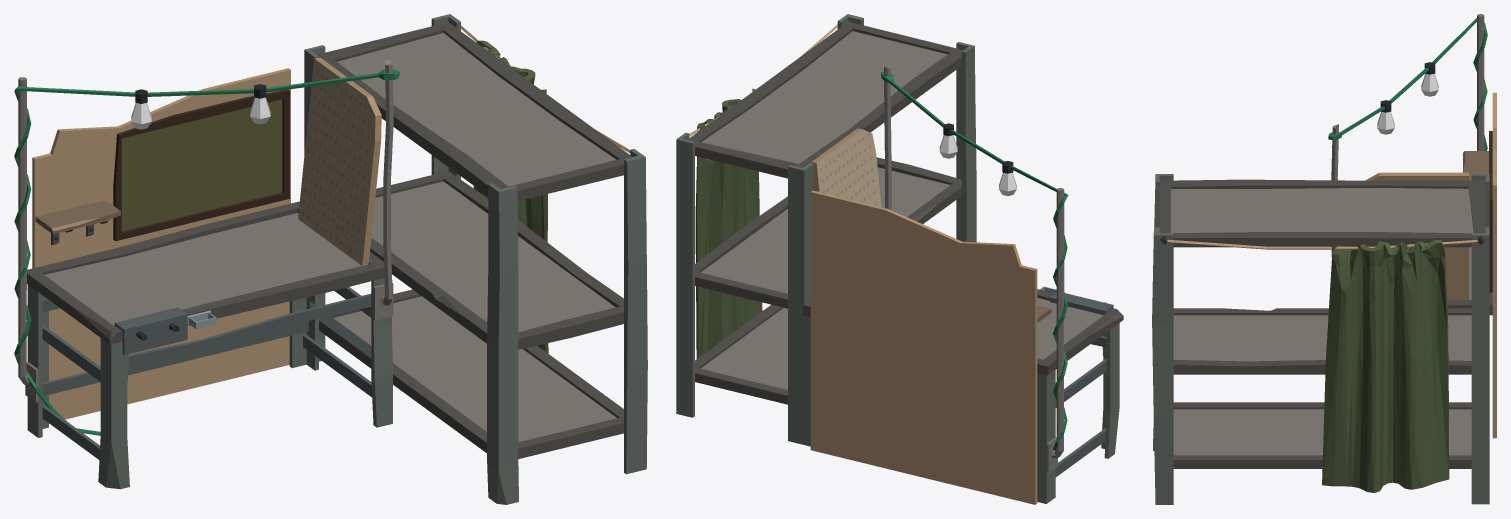
The model's file is SM_Workbench.gltf.
3 renders of one model, left to right at view 1: azimuth 30°, elevation 25°; view 2: azimuth 150°, elevation 25°; view 3: azimuth 270°, elevation 25°, orthographic. The views are drawn at different scales.
Parts seen in each view (by area): view 1: SM_Workbench, SM_Workbench_Light, SM_Workbench_Holder, SM_Workbench_Curtain; view 2: SM_Workbench, SM_Workbench_Curtain, SM_Workbench_Light, SM_Workbench_Holder; view 3: SM_Workbench, SM_Workbench_Curtain, SM_Workbench_Light.
Part boxes in pixels (x1,y1,x2,y2): SM_Workbench: [27, 14, 647, 504]; SM_Workbench_Light: [14, 59, 399, 435]; SM_Workbench_Holder: [114, 307, 187, 355]; SM_Workbench_Curtain: [459, 20, 643, 353]; SM_Workbench: [676, 14, 1123, 504]; SM_Workbench_Curtain: [677, 20, 838, 358]; SM_Workbench_Light: [881, 66, 1068, 472]; SM_Workbench_Holder: [1050, 293, 1113, 314]; SM_Workbench: [1152, 92, 1496, 504]; SM_Workbench_Curtain: [1160, 236, 1485, 492]; SM_Workbench_Light: [1328, 14, 1487, 180].
Size of the model in its own units: 3.07 by 2.35 by 2.32.
2 materials, 1 textured.
